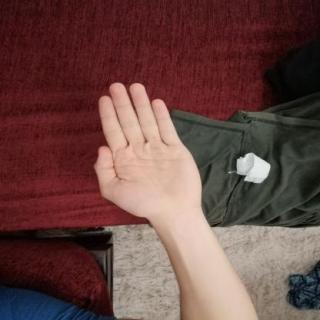SEEN: (85, 75, 209, 226)
